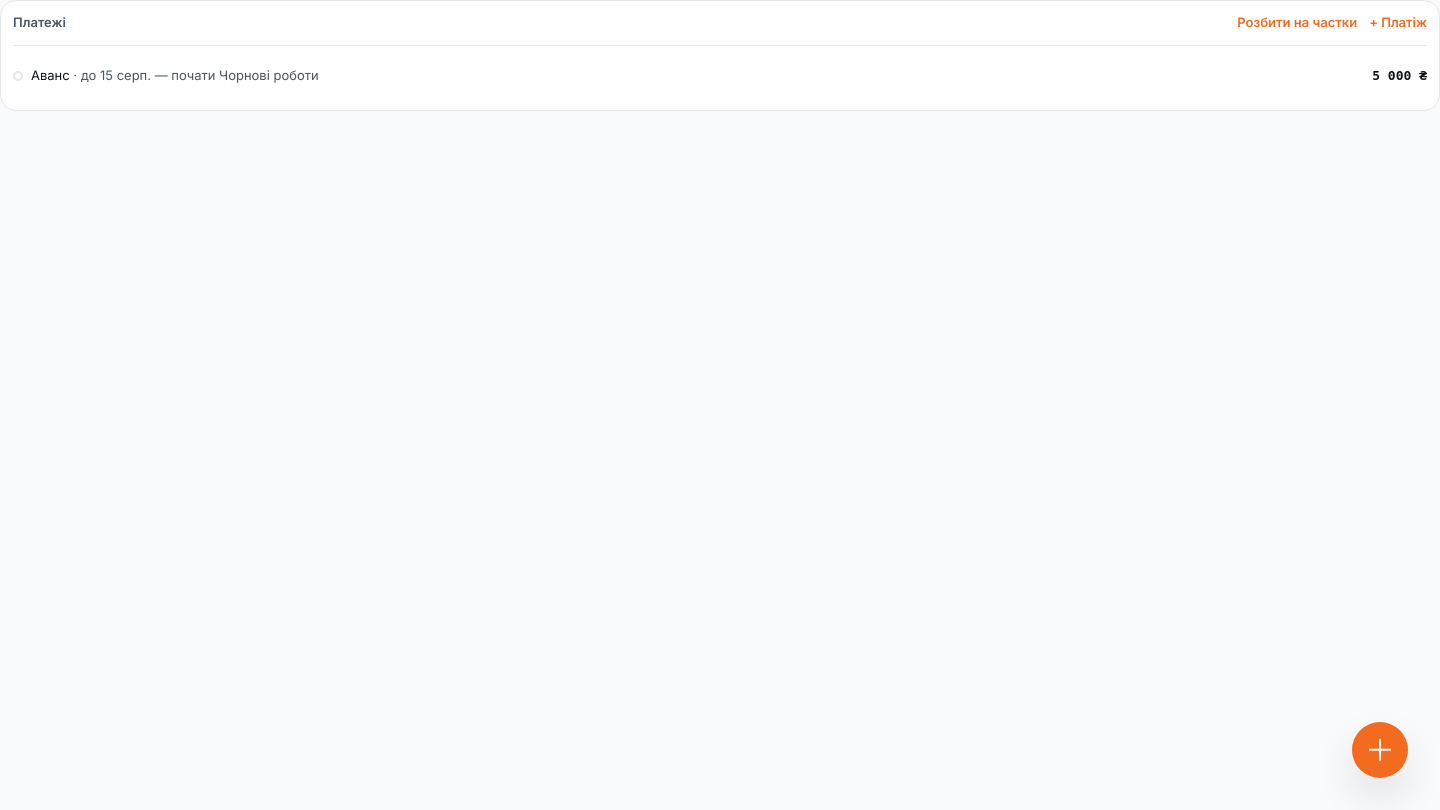
Test: PaymentsBlock — a refused save says so on the field › a name colliding with a planned stage says THAT, not "вкажіть назву"
Click the button "+ Платіж" at x=1398, y=23, box [1369,13,1427,32]
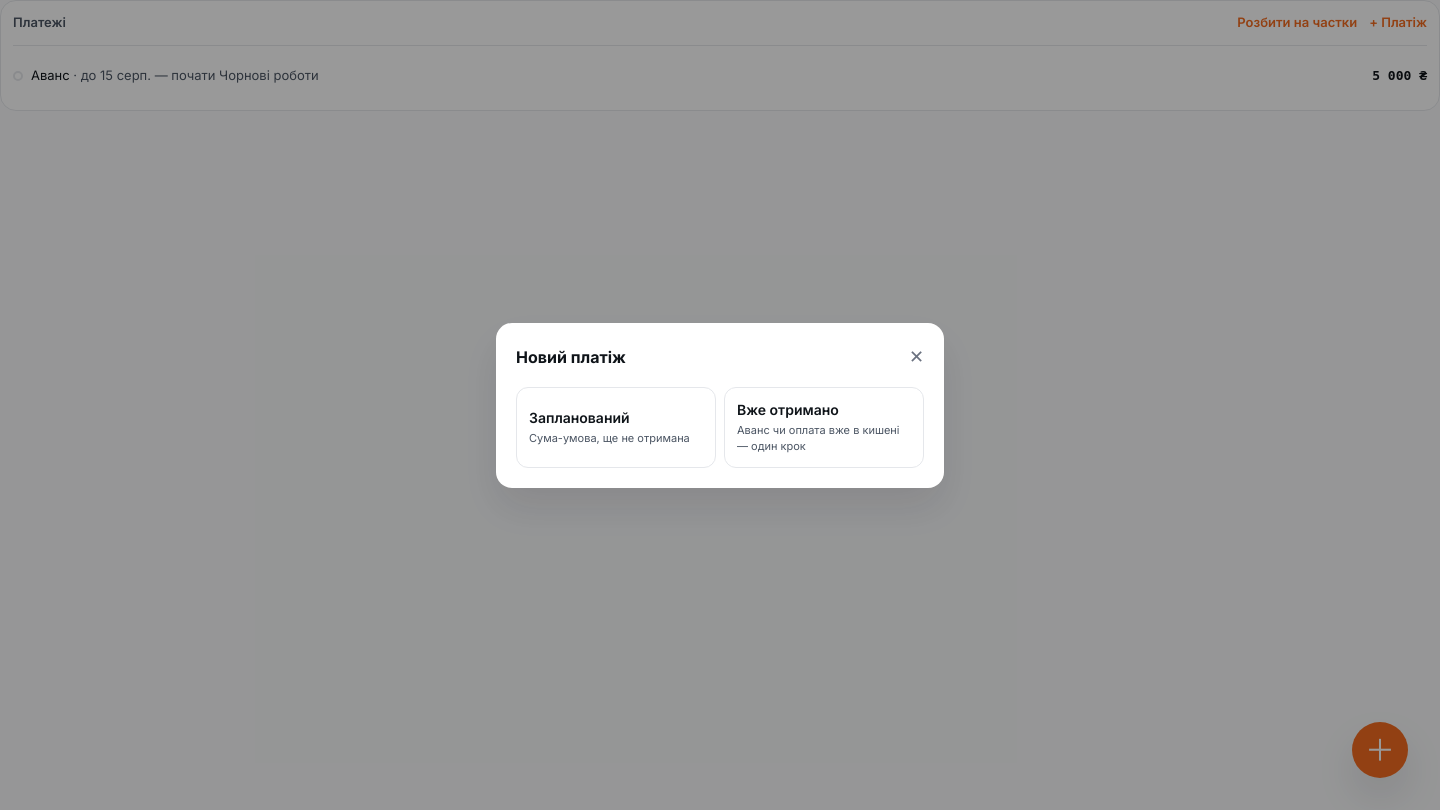
Click the text "Вже отримано" at x=788, y=409, box [737,400,839,418]
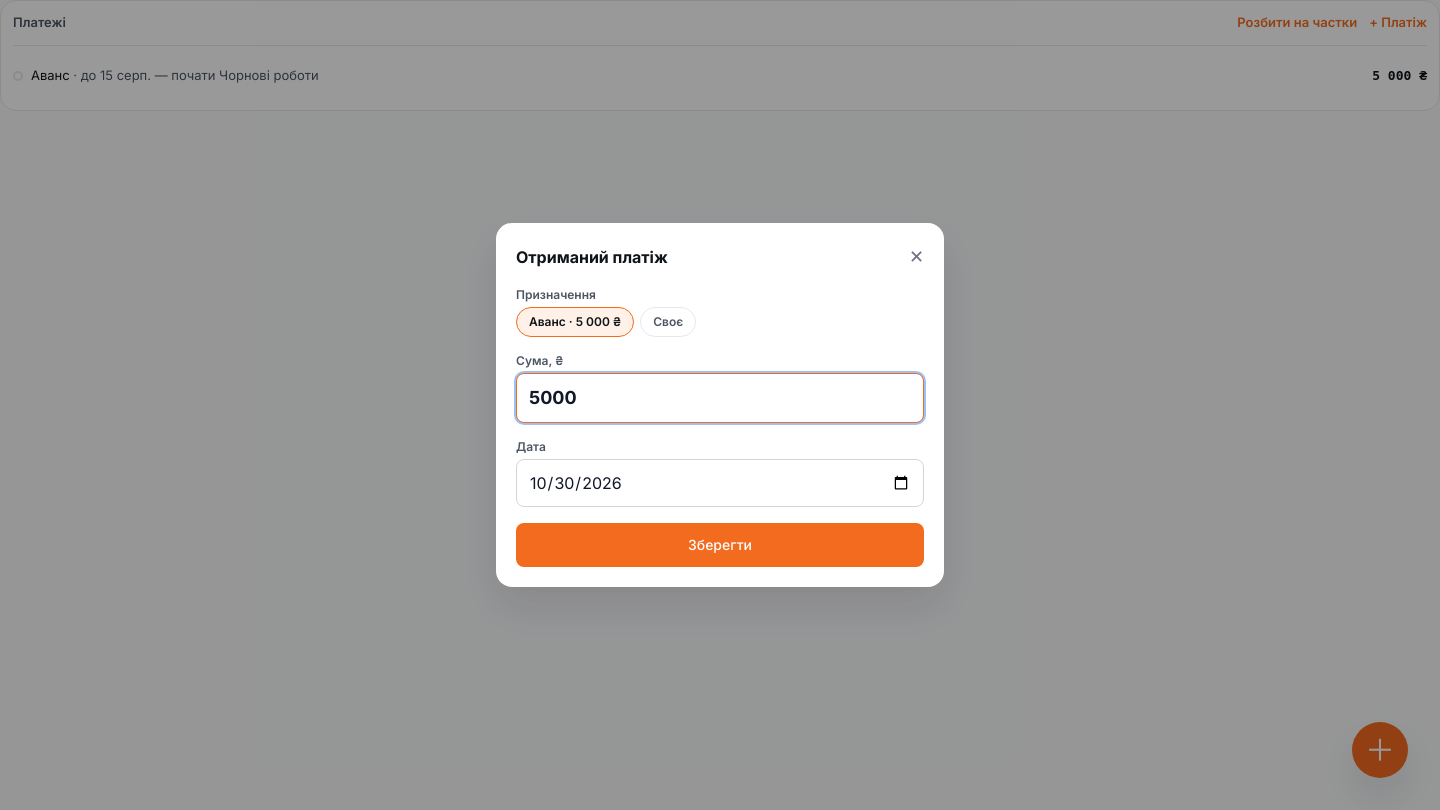
Click the button "Своє" at x=668, y=322, box [640,307,696,337]
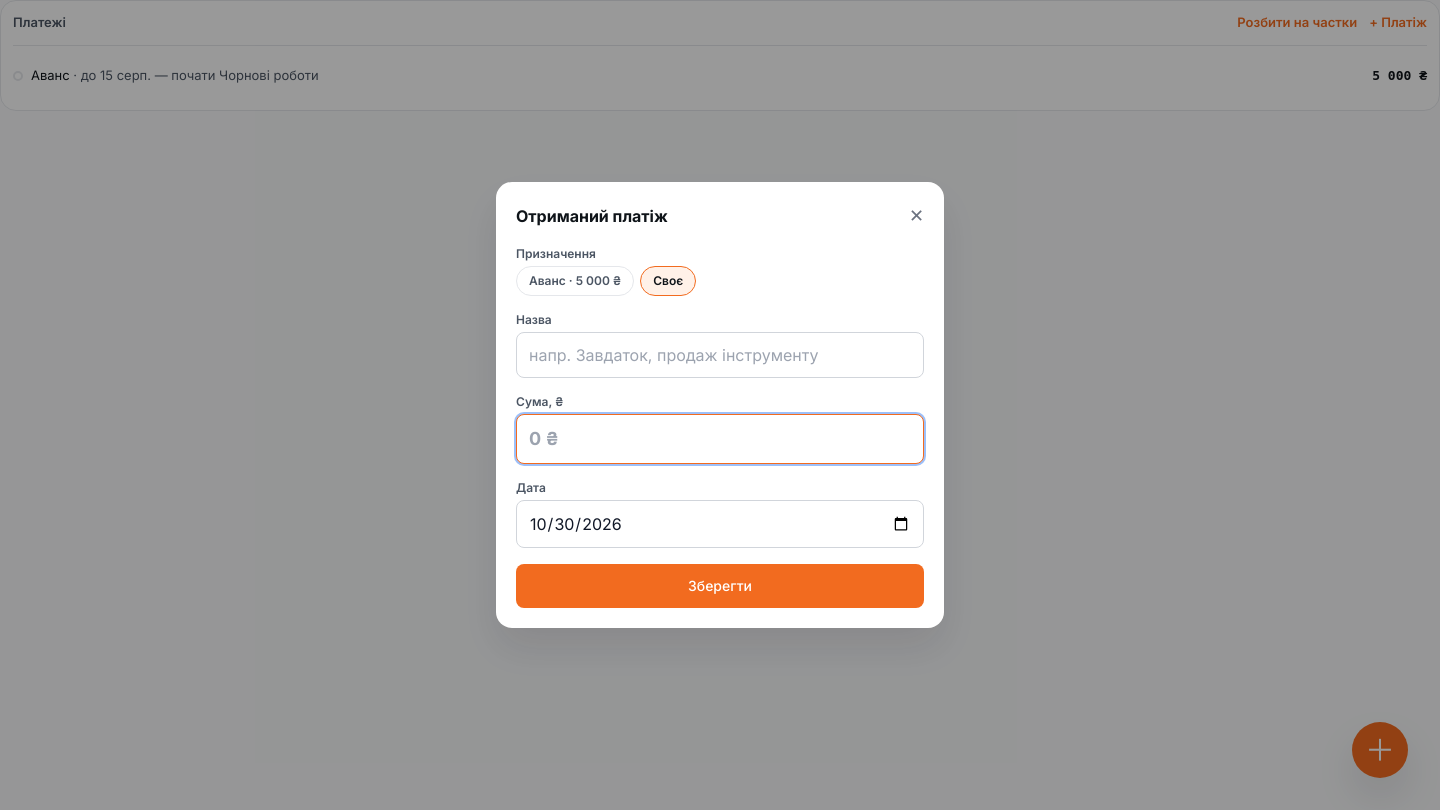
Type "аванс" into the field with placeholder "напр. Завдаток, продаж інструменту" at x=720, y=355, box [516,332,924,378]
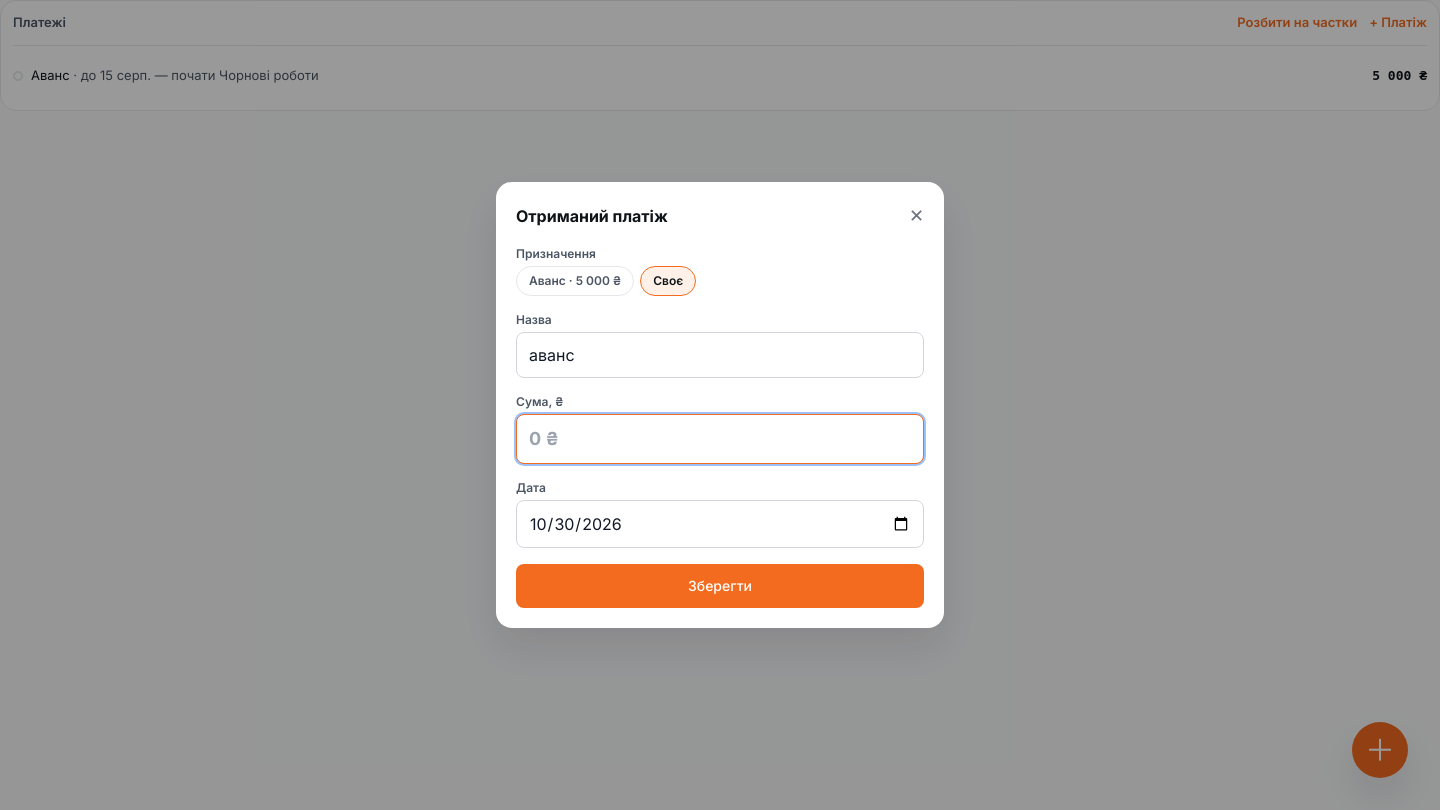
Type "1000" into the field with placeholder "0 ₴" at x=720, y=439, box [516,414,924,464]
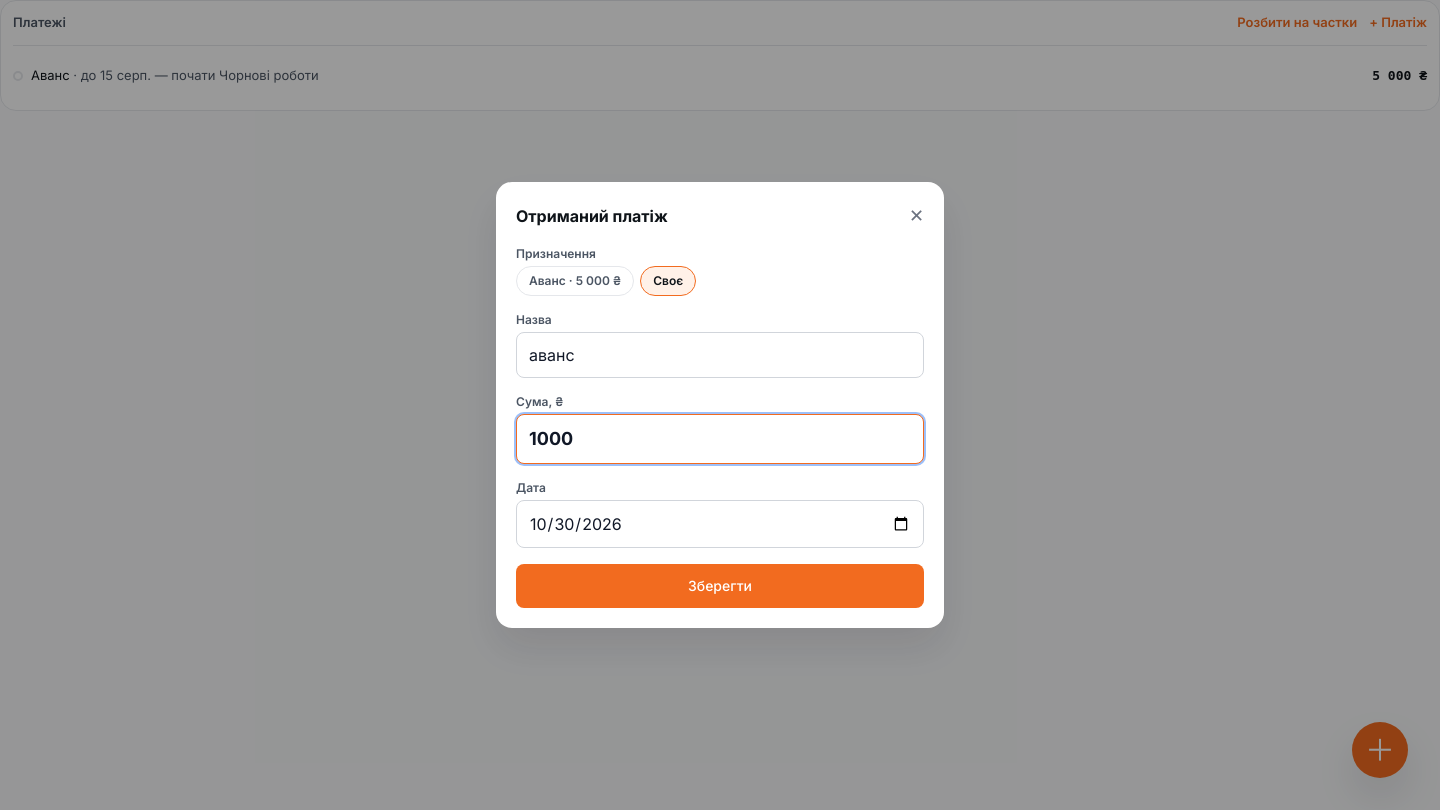
Click the button "Зберегти" at x=720, y=586, box [516,564,924,608]
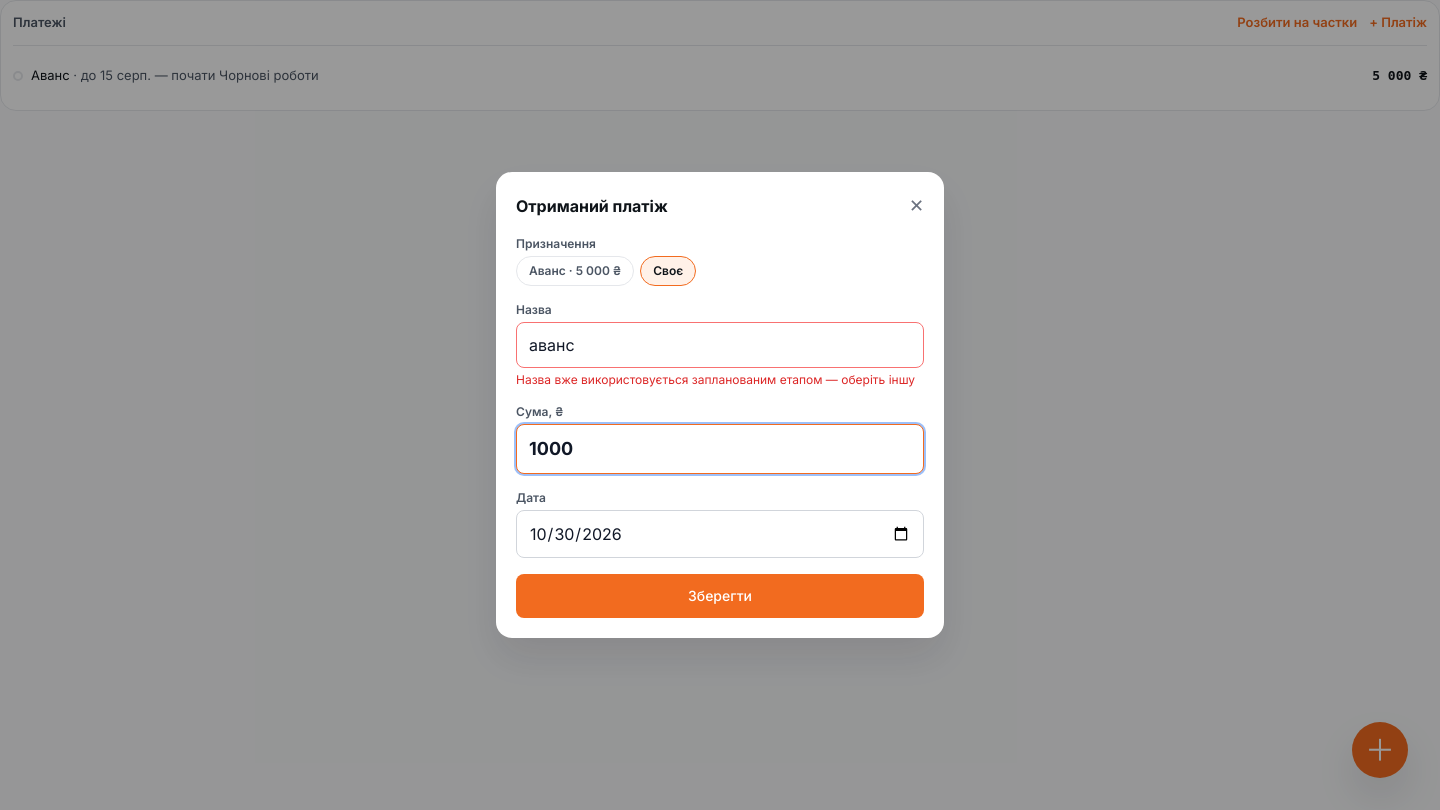
Now the text "вже використовується" is shown, box [516,372,915,387]
